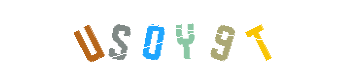9: (143, 0, 223, 80)
O: (130, 0, 210, 80)
S: (113, 0, 193, 80)
T: (219, 0, 299, 80)
U: (49, 0, 129, 80)
Y: (135, 0, 215, 80)
